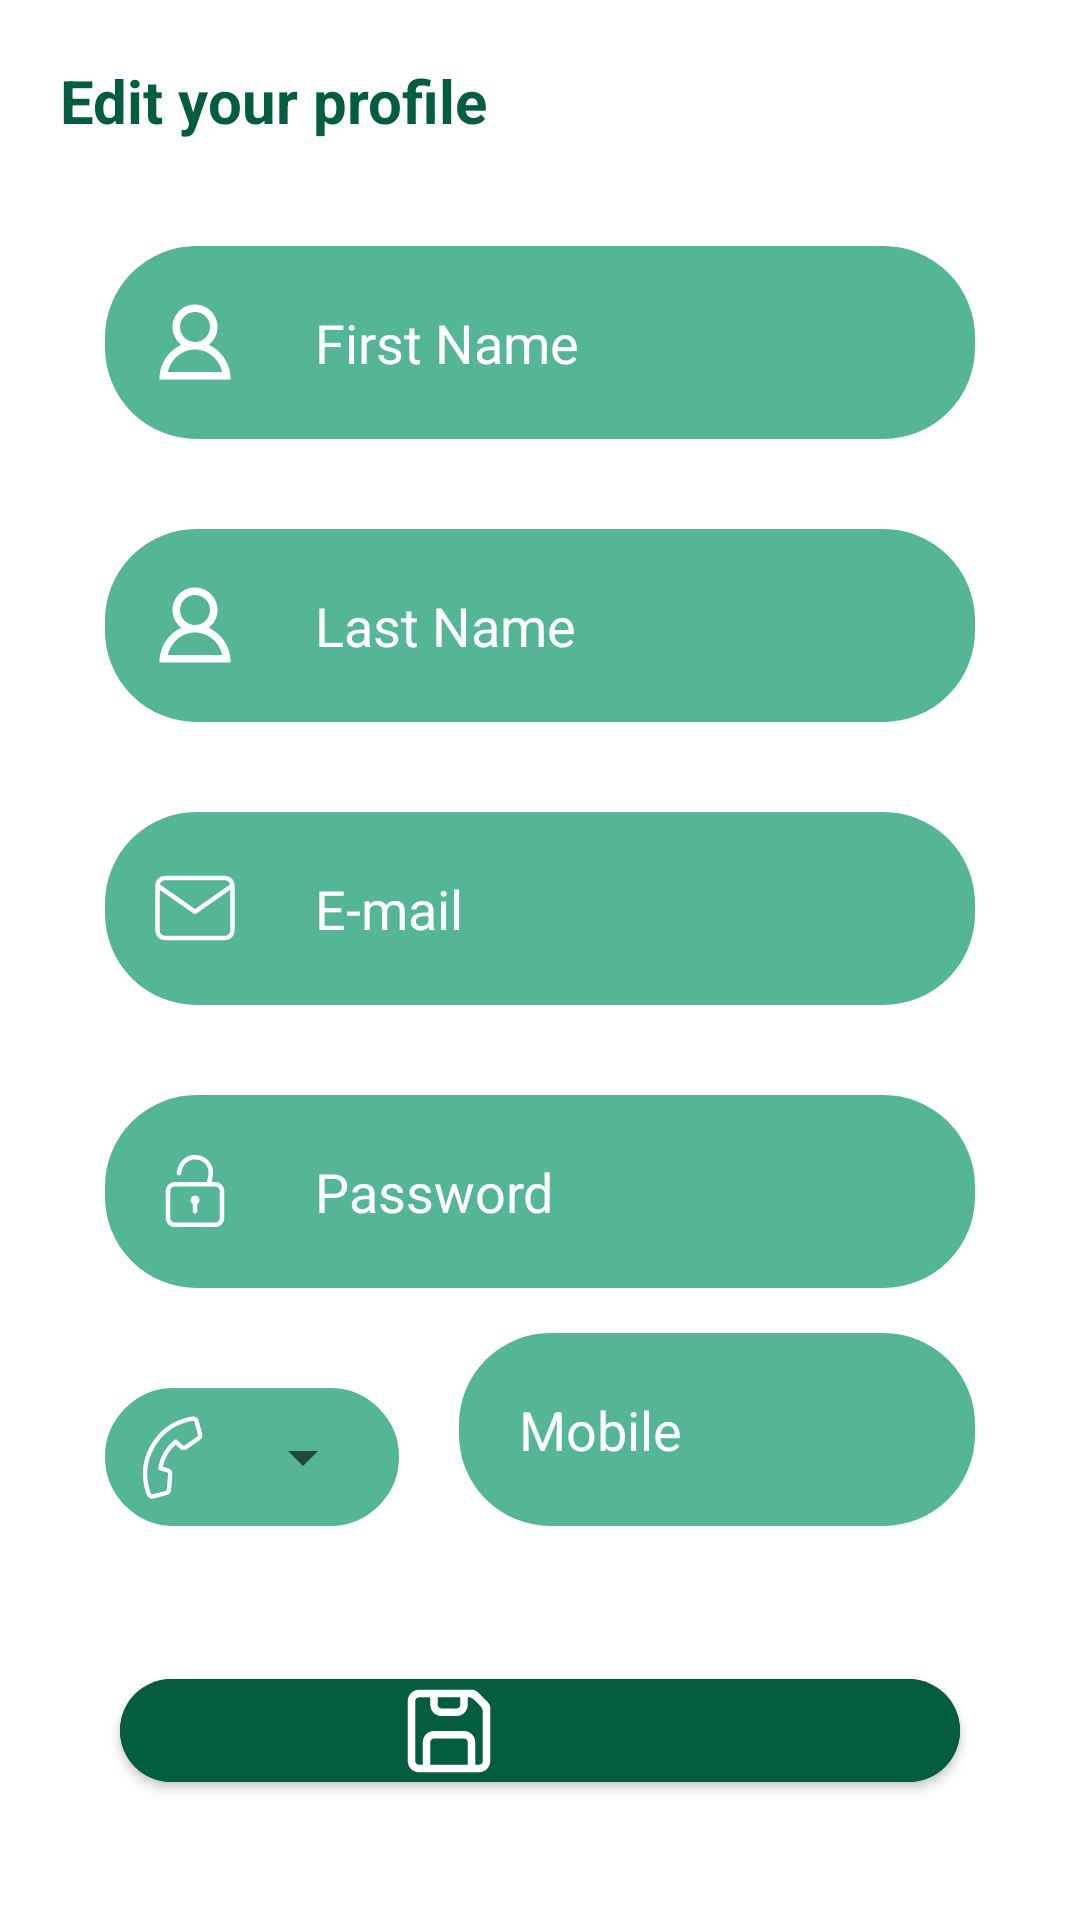

Named icons in this screenshot (1080w x 1920h) and their bounding boxes, [x1,y1,x2,y2]:
account: [159,304,231,380], [159,587,231,663]
lock open: [165,1155,225,1227]
phone: [143,1416,203,1499]
